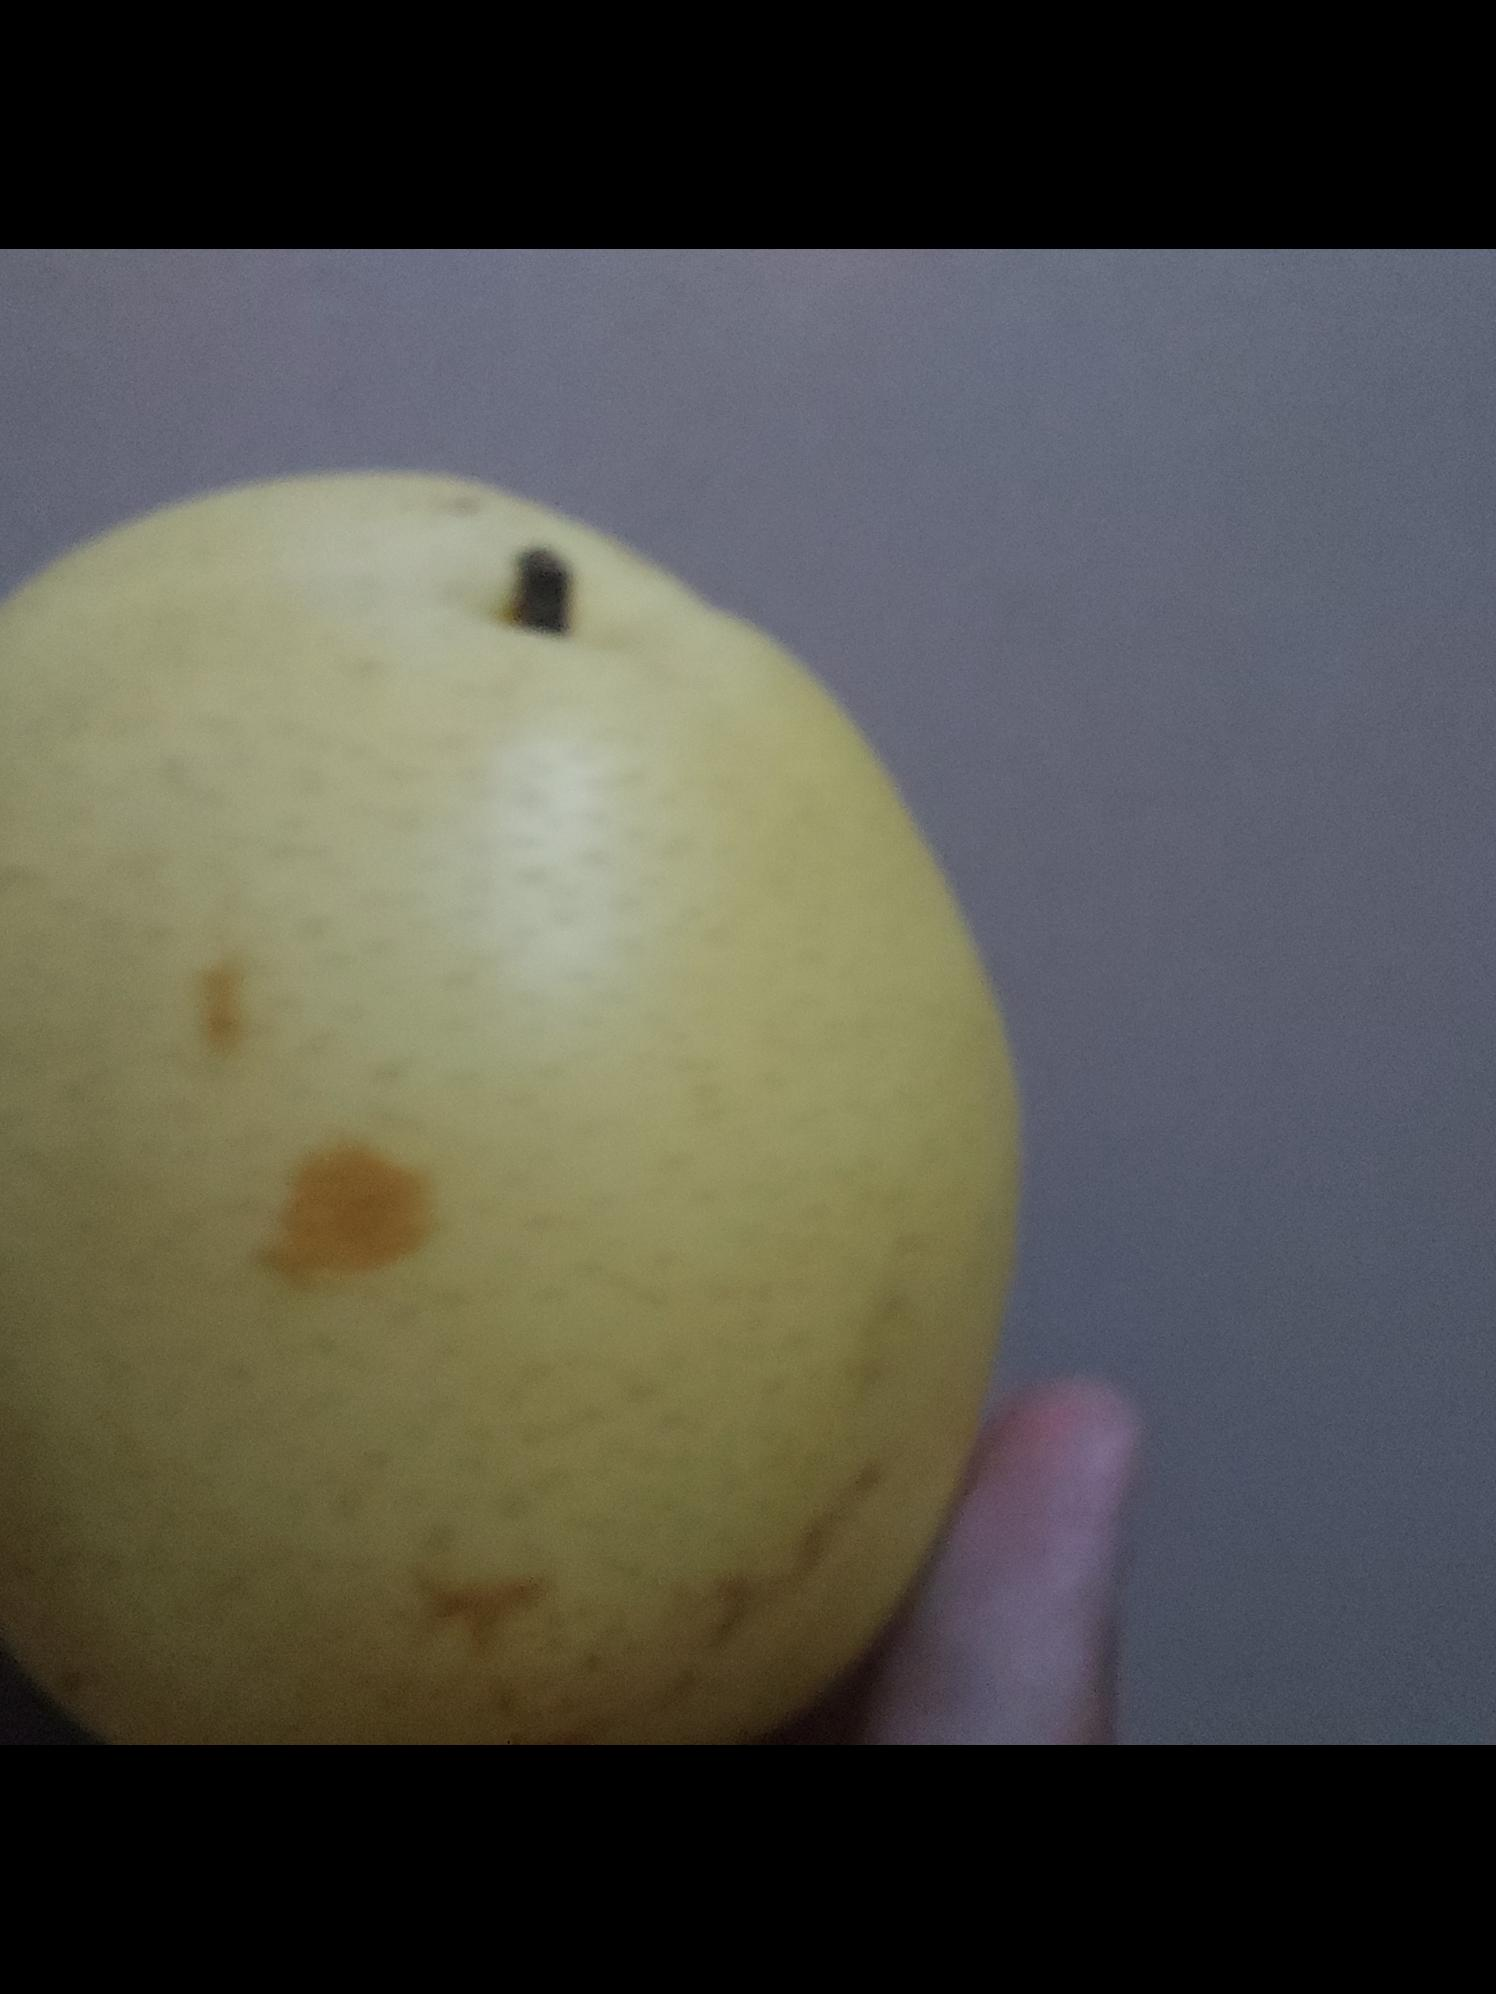Good Pear: (0, 464, 1047, 1745)
